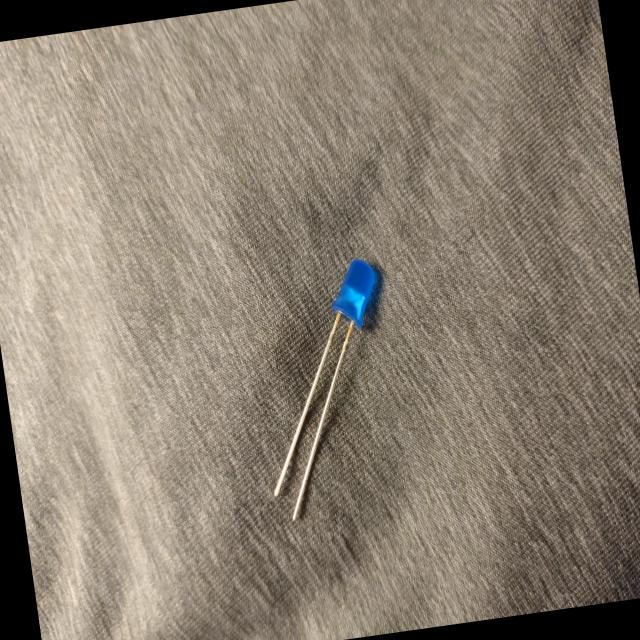blue_led: (234, 228, 424, 530)
